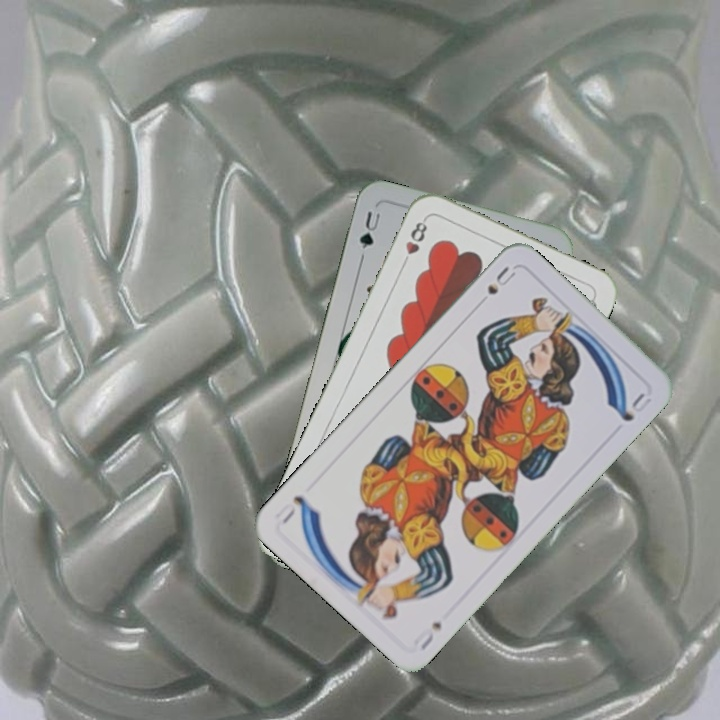GU: (355, 207, 384, 262)
H8: (398, 214, 430, 270)
SU: (483, 262, 519, 298), (409, 617, 445, 653)
